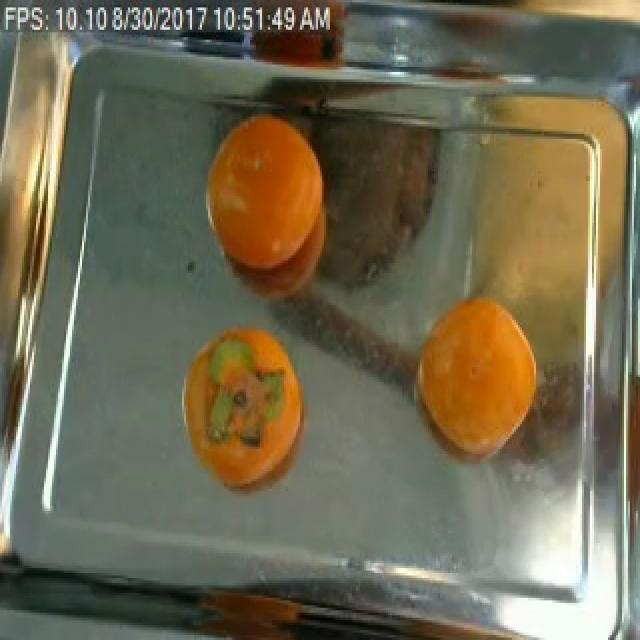Fruit: (168, 305, 318, 521), (404, 270, 548, 482), (306, 90, 458, 290), (192, 97, 336, 295)
